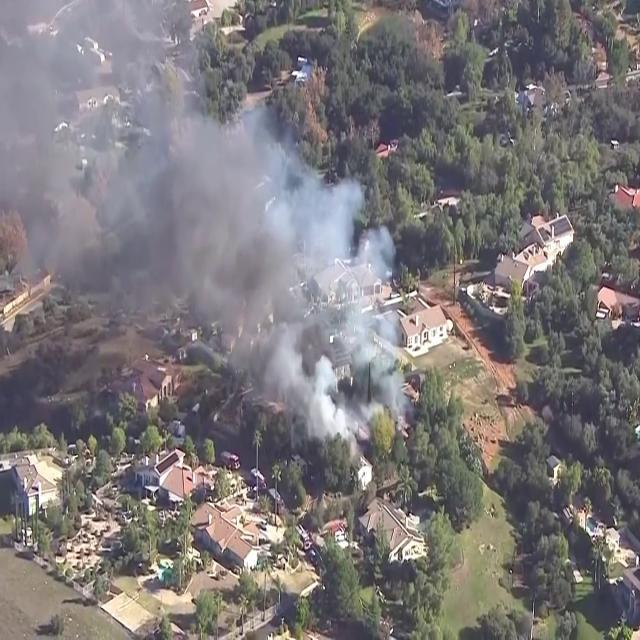Smoke: (0, 16, 412, 472)
